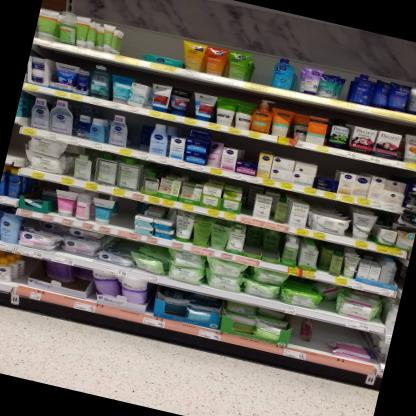empty_space: (111, 201, 137, 234), (123, 35, 146, 63), (254, 60, 276, 89), (7, 130, 22, 159)
